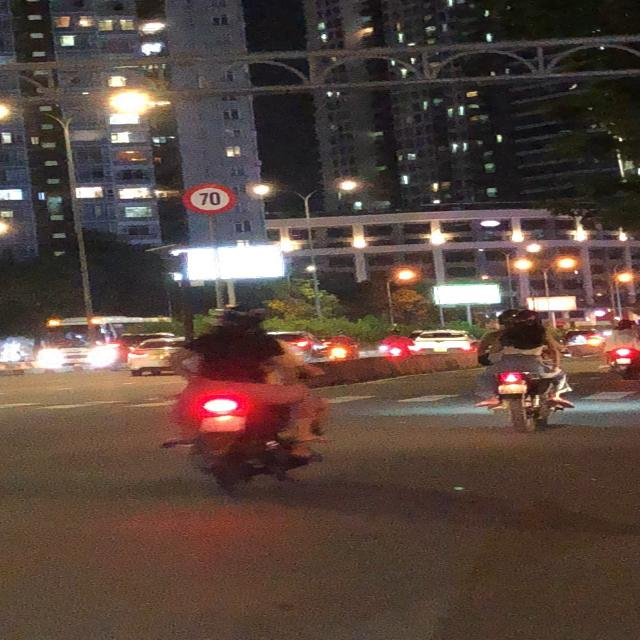Bien bao toc do toi da cho phep: (180, 180, 243, 217)
